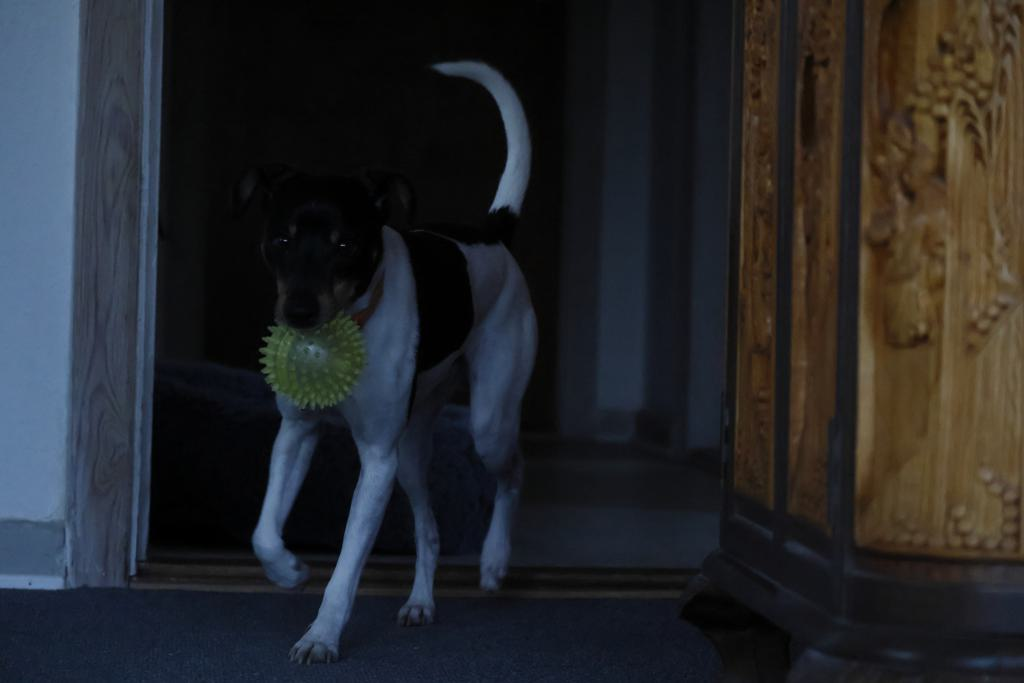Dog: (198, 51, 559, 679)
